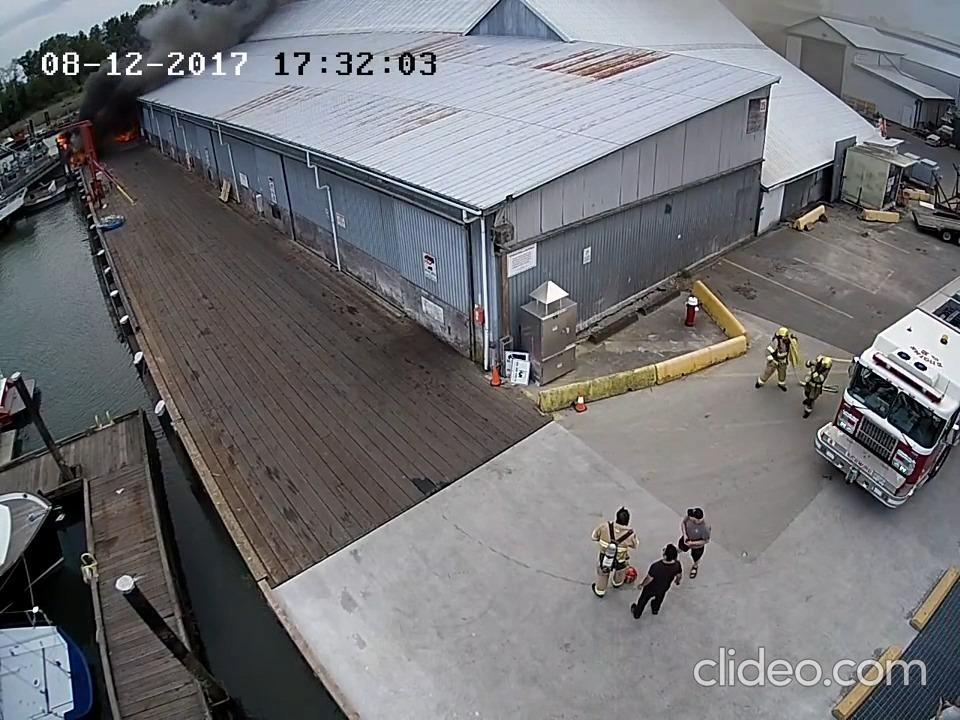fire: (106, 124, 145, 147), (52, 130, 76, 158)
